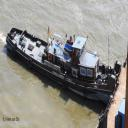tugboat: (6, 25, 124, 112)
